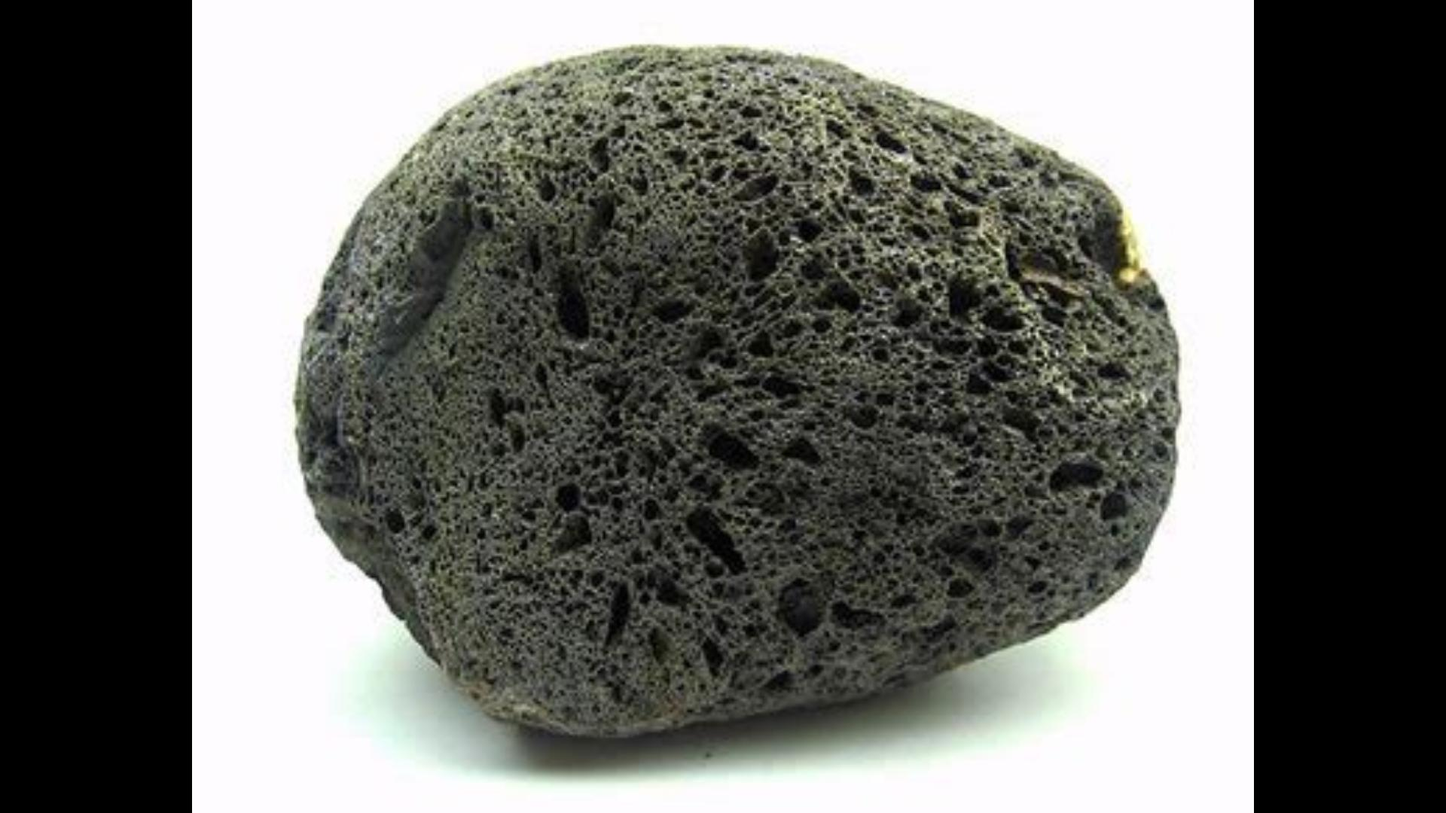rock: (295, 47, 1176, 732)
